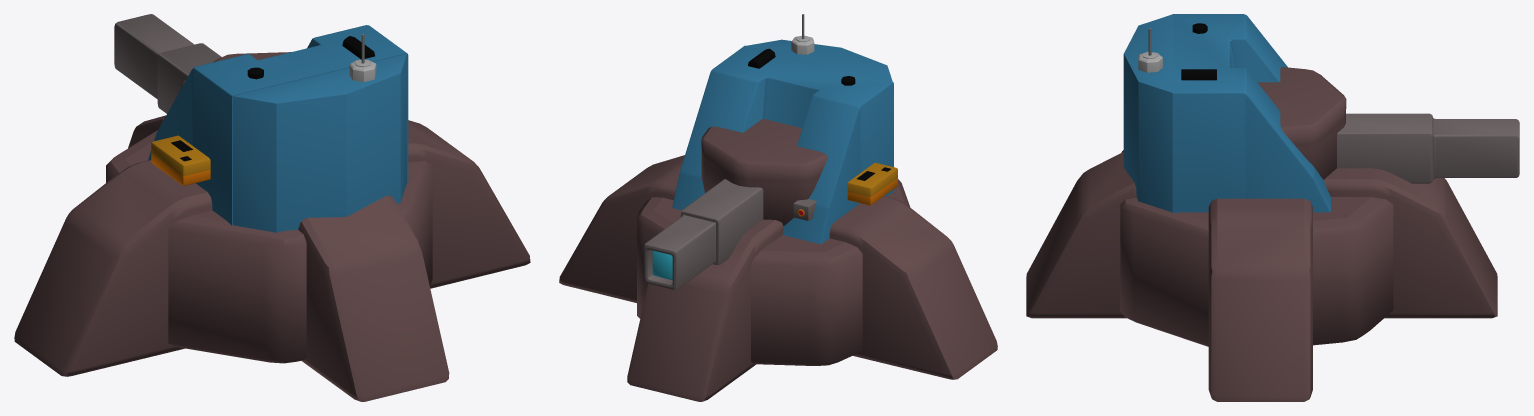
Rendered from пушка.fbx.
3 renders of one model, left to right at view 1: azimuth 30°, elevation 25°; view 2: azimuth 150°, elevation 25°; view 3: azimuth 270°, elevation 25°, orthographic. The views are drawn at different scales.
Parts seen in each view (by area): view 1: Цилиндр.010, Куб.017; view 2: Цилиндр.010, Куб.017; view 3: Цилиндр.010, Куб.017.
Part boxes in pixels (bbox=[...]): Цилиндр.010: bbox=[14, 52, 530, 401]; Куб.017: bbox=[114, 14, 408, 232]; Цилиндр.010: bbox=[559, 119, 997, 401]; Куб.017: bbox=[644, 14, 897, 289]; Цилиндр.010: bbox=[1026, 67, 1497, 401]; Куб.017: bbox=[1123, 14, 1519, 213].
Bounding box in the file's own units: 314 × 196 × 309.
